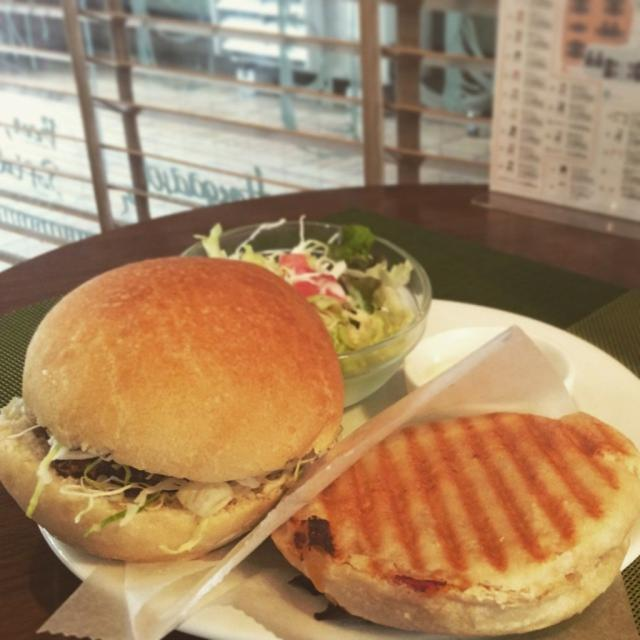Hamburger: (0, 254, 341, 561)
